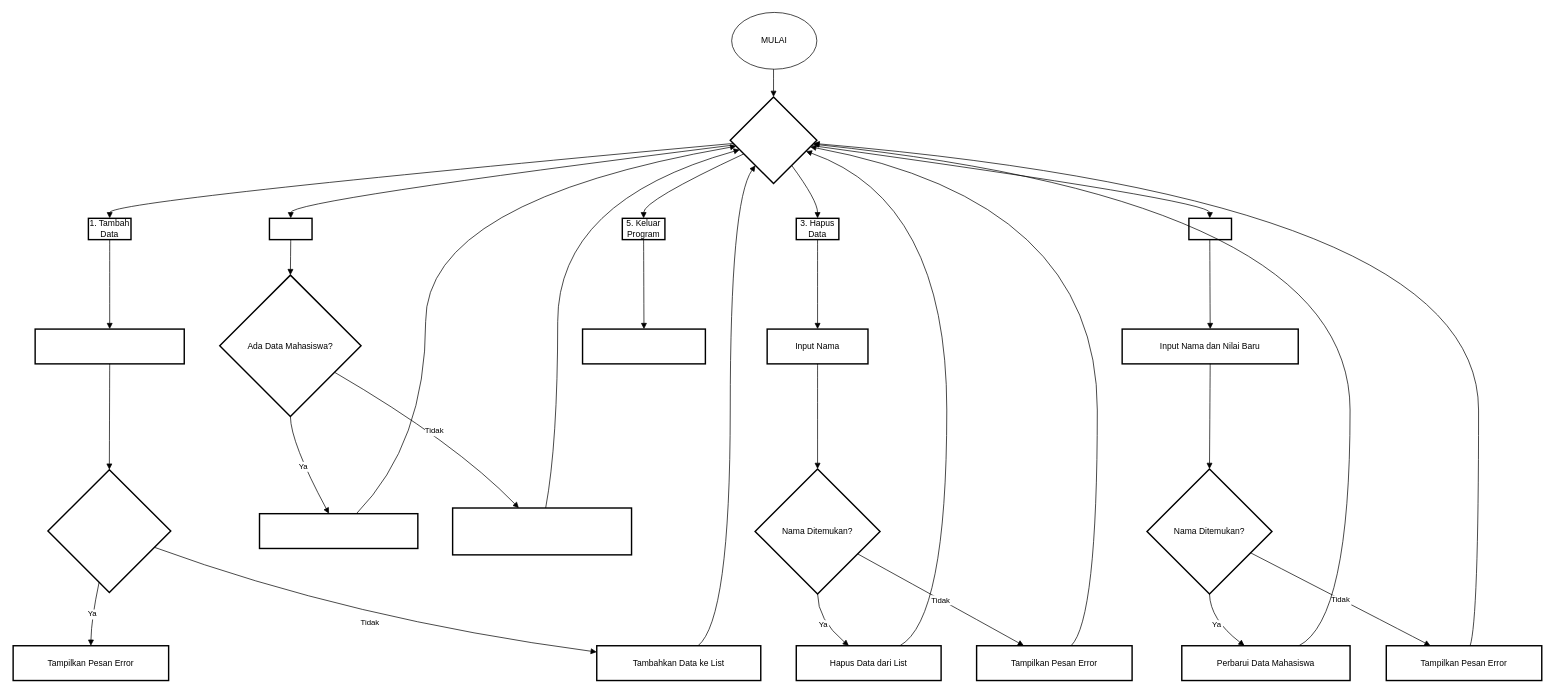
This 1554x694 diagram has some shape labels left out. Each missing label, with the centre of its shape:
"2. Tampilkan Data" goes at pixel 290 228.
"4. Ubah Data" goes at pixel 1210 228.
"Input Nama dan Nilai" goes at pixel 109 346.
"Nama Sudah Ada?" goes at pixel 109 531.
"Pilih Menu" goes at pixel 773 140.
"Program Selesai" goes at pixel 643 346.
"Tampilkan Pesan Tidak Ada Data" goes at pixel 542 531.
"Tampilkan Semua Data" goes at pixel 338 531.
